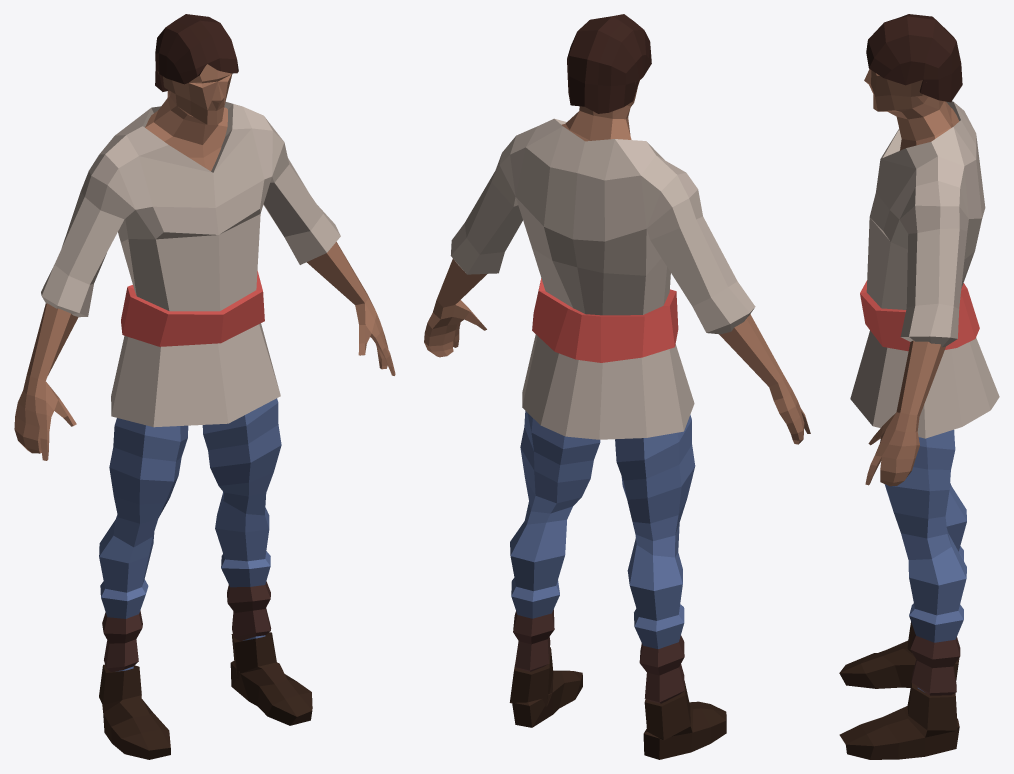
File: don juan.fbx
3 renders of one model, left to right at view 1: azimuth 30°, elevation 25°; view 2: azimuth 150°, elevation 25°; view 3: azimuth 270°, elevation 25°, orthographic.
Visible parts, largest first — view 1: clothes 1, male, boots.001, belt1.001, HAIR.001; view 2: clothes 1, male, boots.001, belt1.001, HAIR.001; view 3: clothes 1, male, boots.001, HAIR.001, belt1.001.
Boxes of the visible parts, bbox=[...] form: clothes 1: bbox=[41, 102, 340, 427]; male: bbox=[14, 64, 395, 671]; boots.001: bbox=[99, 632, 312, 759]; belt1.001: bbox=[121, 270, 264, 346]; HAIR.001: bbox=[155, 14, 238, 91]; clothes 1: bbox=[450, 118, 755, 439]; male: bbox=[424, 80, 810, 703]; boots.001: bbox=[509, 647, 726, 759]; belt1.001: bbox=[532, 278, 678, 362]; HAIR.001: bbox=[567, 14, 651, 113]; clothes 1: bbox=[850, 101, 999, 438]; male: bbox=[864, 69, 966, 695]; boots.001: bbox=[839, 622, 959, 759]; HAIR.001: bbox=[866, 14, 962, 102]; belt1.001: bbox=[860, 280, 979, 351].
Bounding box in the file's own units: 196 × 355 × 73.85.
